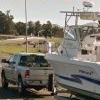Boat: (40, 23, 100, 94)
